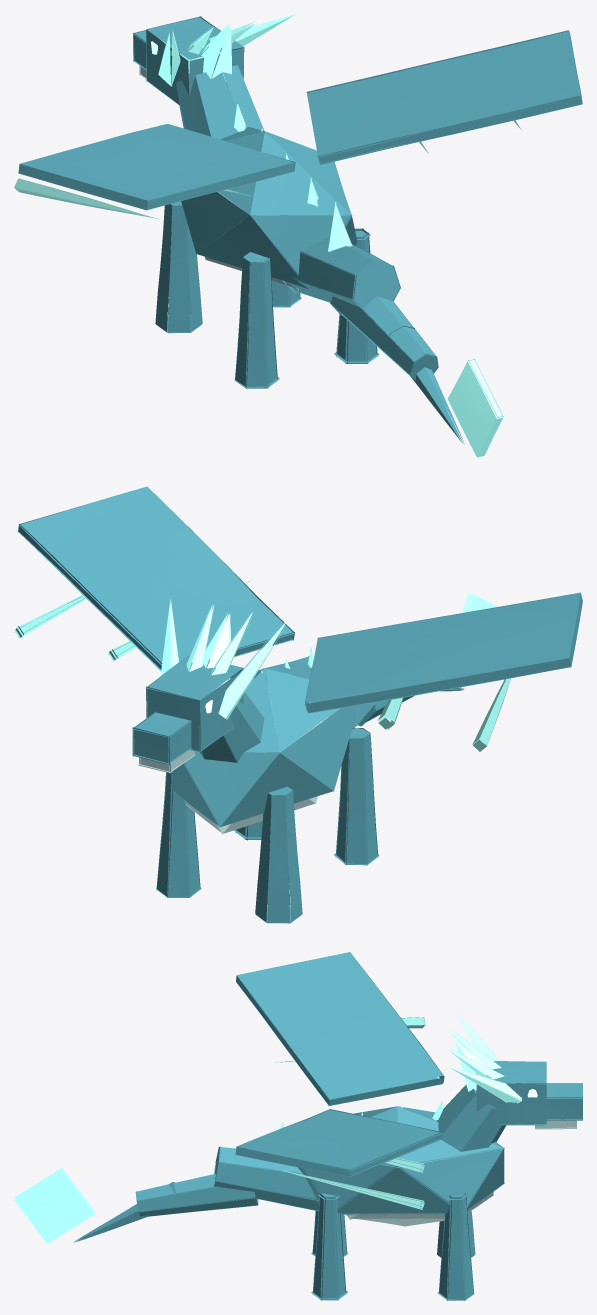
File: dragon_tide.glb
The picture shows the model from 3 angles, top to bottom: view 1: azimuth 30°, elevation 25°; view 2: azimuth 150°, elevation 25°; view 3: azimuth 270°, elevation 25°; orthographic projection. The views are drawn at different scales.
Visible parts, largest first — view 1: DragonBody; view 2: DragonBody; view 3: DragonBody.
Part boxes in pixels (x1,y1,x2,y2): DragonBody: (14,14,582,457); DragonBody: (14,486,582,923); DragonBody: (14,952,582,1300).
Size of the model in its own units: 5.86 by 3 by 6.42.
